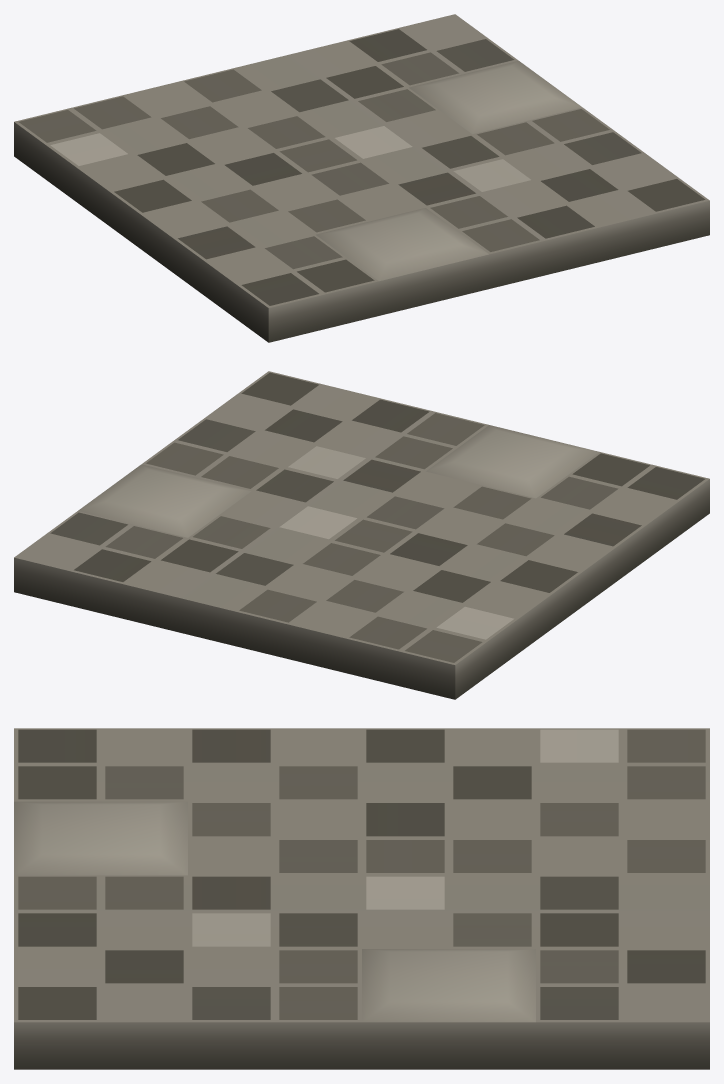
The model's file is Pavement_1S_4x4.fbx.
3 renders of one model, top to bottom at view 1: azimuth 30°, elevation 25°; view 2: azimuth 150°, elevation 25°; view 3: azimuth 270°, elevation 25°, orthographic. The views are drawn at different scales.
Visible parts, largest first — view 1: Pavement_1S_4x4; view 2: Pavement_1S_4x4; view 3: Pavement_1S_4x4.
Part boxes in pixels (bbox=[...]): Pavement_1S_4x4: bbox=[14, 14, 709, 342]; Pavement_1S_4x4: bbox=[14, 371, 709, 699]; Pavement_1S_4x4: bbox=[14, 728, 709, 1069].
Size of the model in its own units: 4 by 0.3565 by 4.
